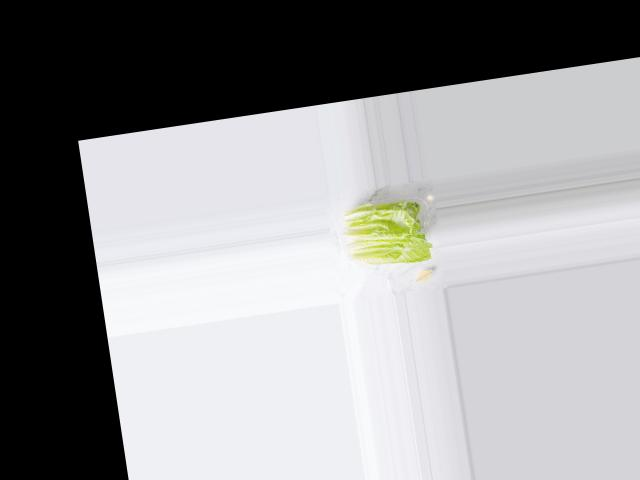lettuce: (338, 192, 435, 275)
